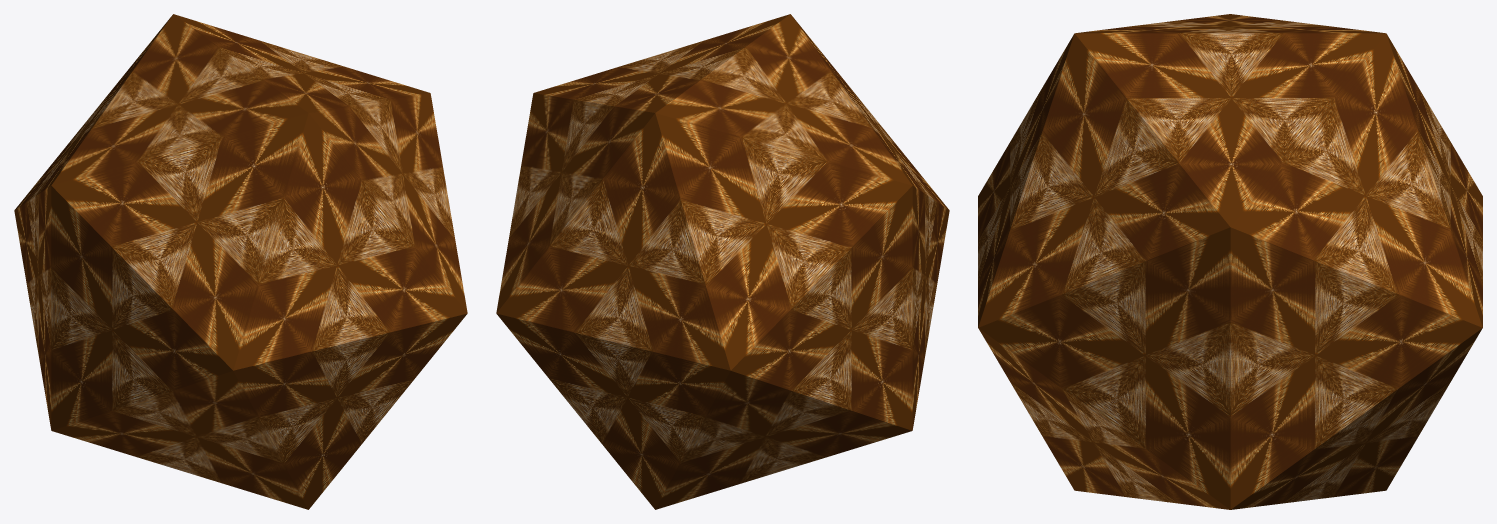
Rendered from 20Icosahedron.obj.
3 renders of one model, left to right at view 1: azimuth 30°, elevation 25°; view 2: azimuth 150°, elevation 25°; view 3: azimuth 270°, elevation 25°, orthographic. The views are drawn at different scales.
Size of the model in its own units: 1.62 by 1.62 by 1.62.
1 material, 1 textured.
